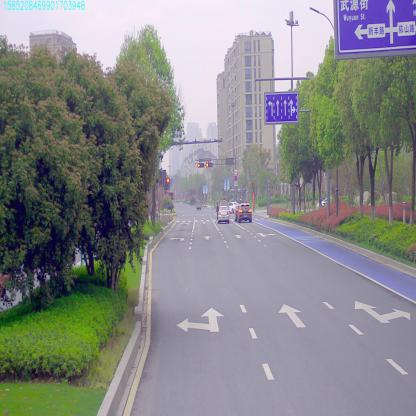traffic-light: (197, 161, 203, 166), (206, 162, 210, 169)
